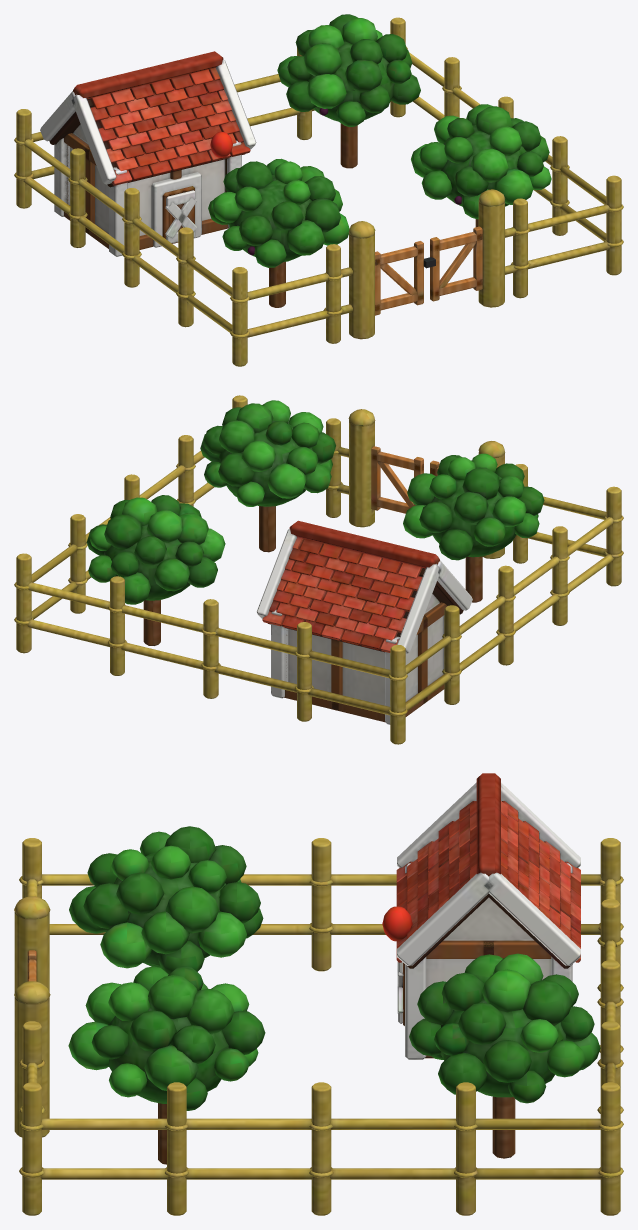
The model's file is silk_house.glb.
The picture shows the model from 3 angles, top to bottom: view 1: azimuth 30°, elevation 25°; view 2: azimuth 150°, elevation 25°; view 3: azimuth 270°, elevation 25°; orthographic projection. The views are drawn at different scales.
Parts seen in each view (by area): view 1: silk_house; view 2: silk_house; view 3: silk_house.
Boxes of the visible parts, bbox=[...] form: silk_house: bbox=[14, 14, 623, 366]; silk_house: bbox=[14, 395, 623, 744]; silk_house: bbox=[14, 773, 623, 1215].
Size of the model in its own units: 1.99 by 0.735 by 2.
Materials: 1 (1 with a texture image).
